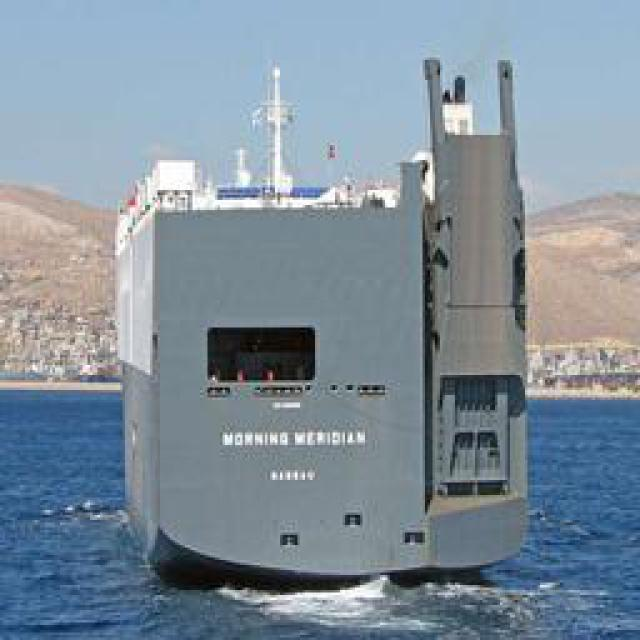Ship: (106, 51, 538, 596)
